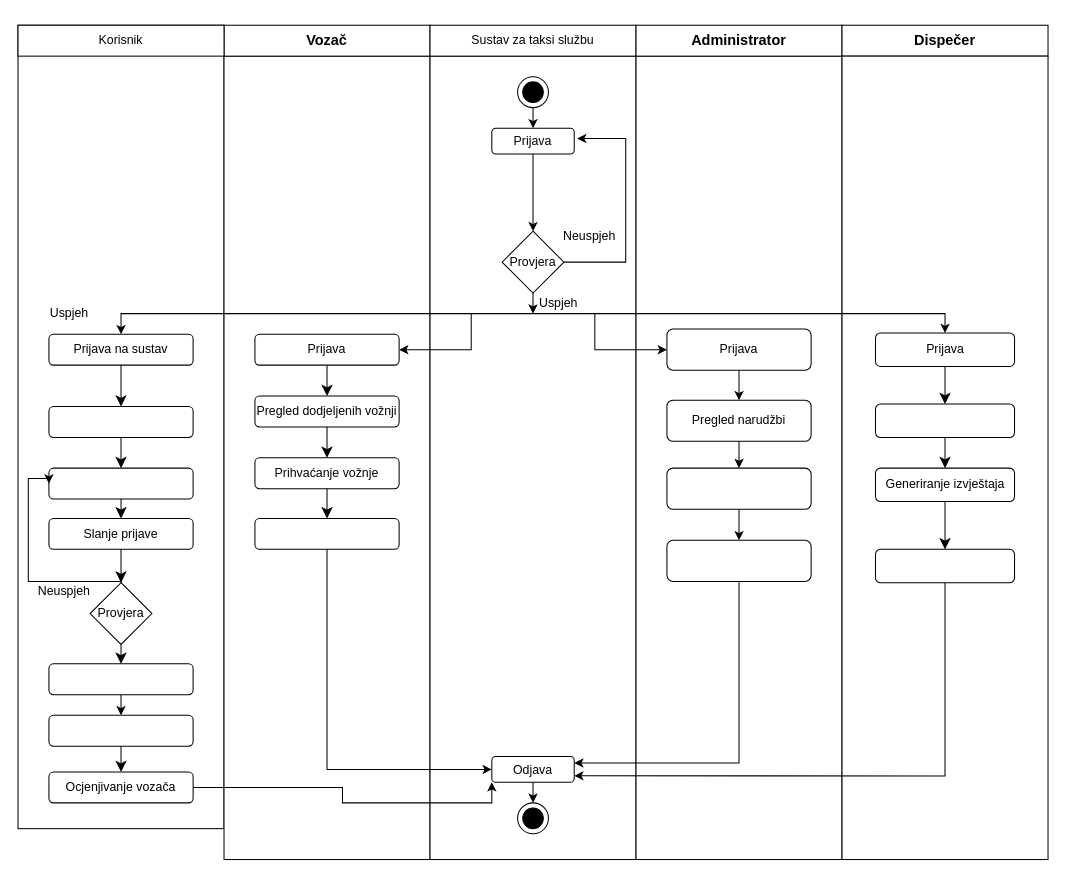
Some shapes in this 1066 by 878 pixel diagram are drawn without their labels. The shapes that lost their labels are listed below. From the top down, each one's box as (x1, y1, x2, y2) in pixels, then its label:
(48, 406, 193, 437): Naručivanje vožnje
(874, 403, 1015, 438): Dodavanje novih vozača i vozila
(48, 467, 193, 499): Popunjavanje prijave
(666, 467, 811, 509): Upravljanje flotom
(254, 517, 399, 549): Ažuriranje sustava vožnje
(666, 539, 811, 581): Kontaktiranje vozača
(874, 548, 1015, 583): Postavljanje tarifa
(48, 663, 193, 695): Plaćanje vožnje
(48, 714, 193, 746): Praćenje vožnje
